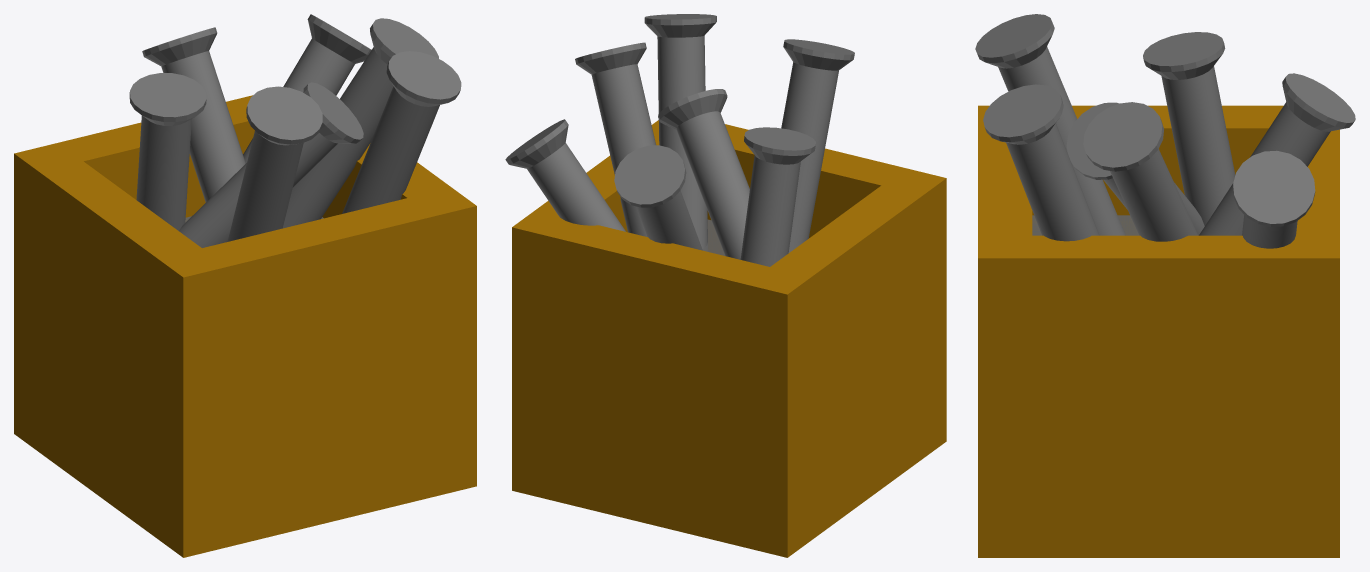
The model's file is Boxofnail.fbx.
3 renders of one model, left to right at view 1: azimuth 30°, elevation 25°; view 2: azimuth 150°, elevation 25°; view 3: azimuth 270°, elevation 25°, orthographic. The views are drawn at different scales.
Parts seen in each view (by area): view 1: pasted__pasted__pasted__pasted__pCylinder1; view 2: pasted__pasted__pasted__pasted__pCylinder1; view 3: pasted__pasted__pasted__pasted__pCylinder1.
Part boxes in pixels (left/top/right/bottom): pasted__pasted__pasted__pasted__pCylinder1: left=14, top=14, right=476, bottom=557; pasted__pasted__pasted__pasted__pCylinder1: left=505, top=14, right=946, bottom=557; pasted__pasted__pasted__pasted__pCylinder1: left=975, top=14, right=1355, bottom=557.
Size of the model in its own units: 4.4 by 5.37 by 4.17.
